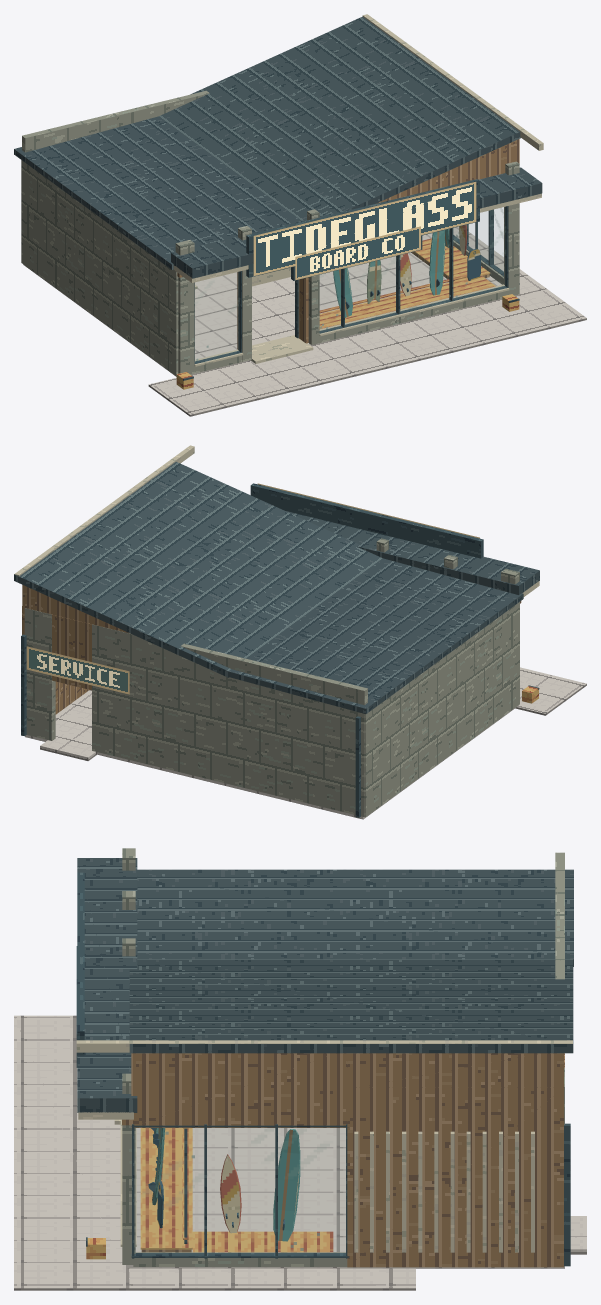
File: tideglass.glb
The picture shows the model from 3 angles, top to bottom: view 1: azimuth 30°, elevation 25°; view 2: azimuth 150°, elevation 25°; view 3: azimuth 270°, elevation 25°; orthographic projection. The views are drawn at different scales.
Visible parts, largest first — view 1: shop_roof, retail_shell, Concrete pedestrian landing, sign_name_tideglass, display_stock, sign_board_co, display_window_panes, Corner walk return, lot; view 2: shop_roof, retail_shell, sign_service, Concrete pedestrian landing, Rear drainage stoop; view 3: shop_roof, retail_shell, Concrete pedestrian landing, display_stock, Corner walk return, display_window_panes, Rear drainage stoop.
Boxes of the visible parts, x1,y1,x2,y2 form: shop_roof: (14, 14, 543, 282); retail_shell: (21, 90, 519, 376); Concrete pedestrian landing: (148, 287, 586, 416); sign_name_tideglass: (253, 182, 476, 275); display_stock: (319, 222, 495, 328); sign_board_co: (295, 226, 420, 280); display_window_panes: (195, 207, 505, 360); Corner walk return: (449, 226, 545, 293); lot: (176, 294, 519, 389); shop_roof: (14, 445, 539, 713); retail_shell: (21, 483, 521, 819); sign_service: (26, 646, 129, 694); Concrete pedestrian landing: (515, 667, 586, 715); Rear drainage stoop: (40, 738, 96, 760); shop_roof: (76, 858, 573, 1252); retail_shell: (77, 848, 570, 1268); Concrete pedestrian landing: (14, 1015, 130, 1290); display_stock: (140, 1128, 333, 1252); Corner walk return: (126, 1265, 415, 1290); display_window_panes: (139, 1128, 332, 1250); Rear drainage stoop: (570, 1216, 586, 1254).
Size of what is drawn, in the model's own units: 15.2 by 6.06 by 13.51.
11 materials, 11 textured.
